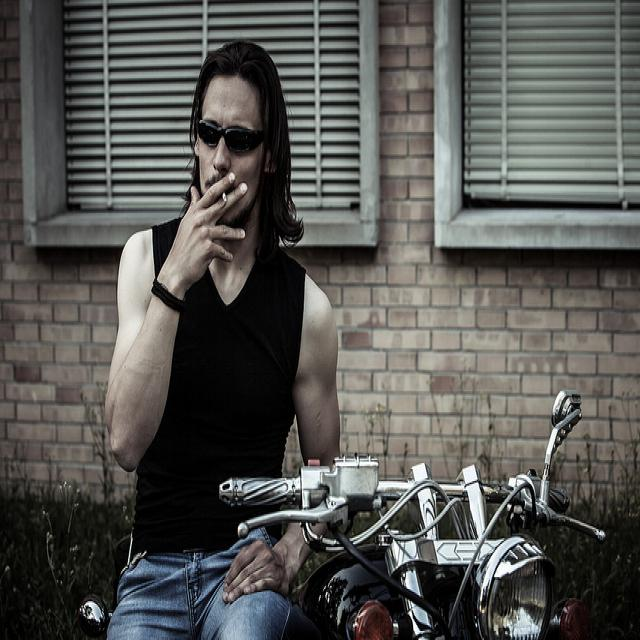motor: (226, 387, 594, 627)
